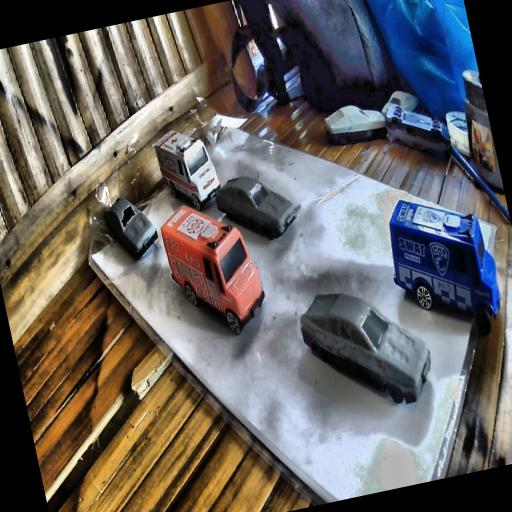ambulance: (148, 119, 226, 218)
fire_truck: (156, 192, 272, 346)
normal_car: (295, 274, 437, 423), (380, 86, 510, 239), (214, 165, 301, 249), (380, 92, 454, 164), (99, 190, 162, 267), (320, 98, 390, 151), (376, 86, 422, 122)
police car: (375, 182, 509, 350)
